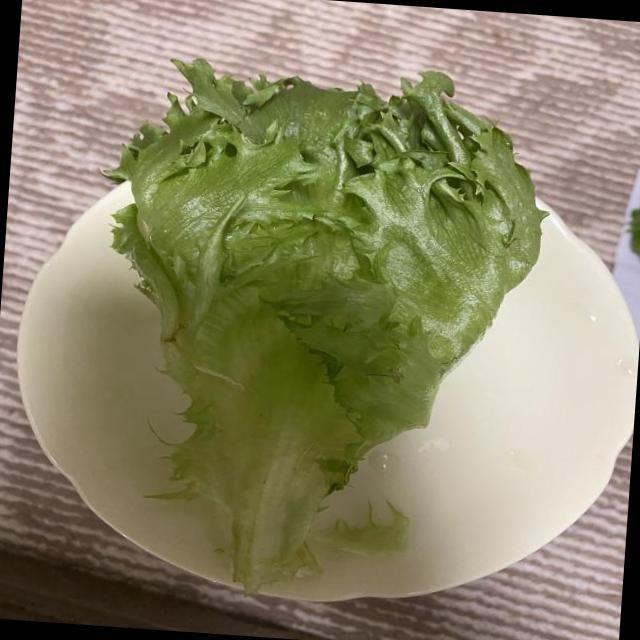Lettuce-Ready-to-Harvest: (108, 60, 543, 591)
